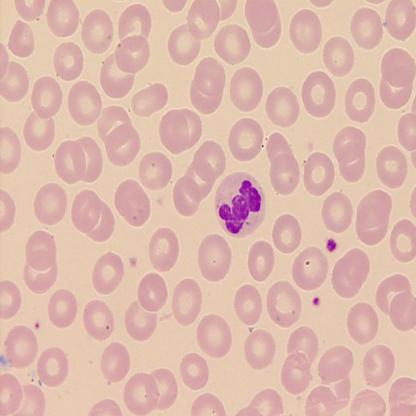Segmented neutrophil: (212, 169, 270, 240)
